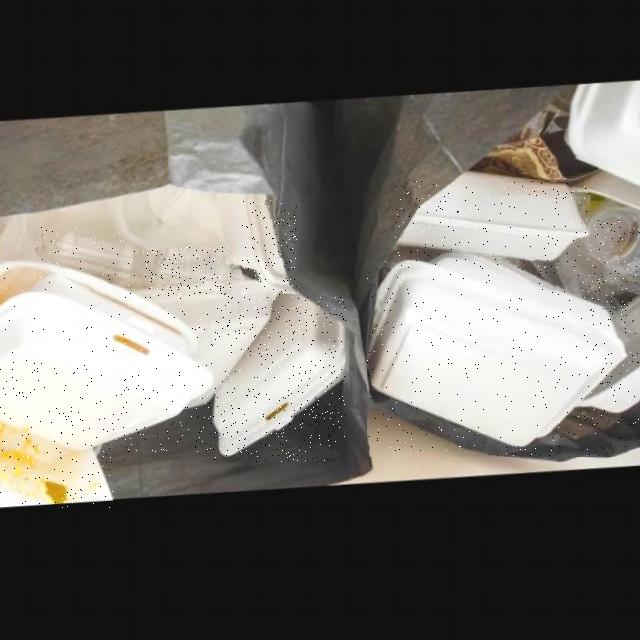plastic: (556, 256, 635, 357), (34, 227, 136, 289), (583, 218, 640, 307), (143, 247, 232, 299)
styrofoam: (367, 261, 628, 457), (0, 277, 213, 451), (212, 297, 346, 462), (0, 263, 196, 362), (396, 181, 588, 271), (0, 423, 113, 508), (575, 308, 639, 425), (243, 200, 297, 300)
